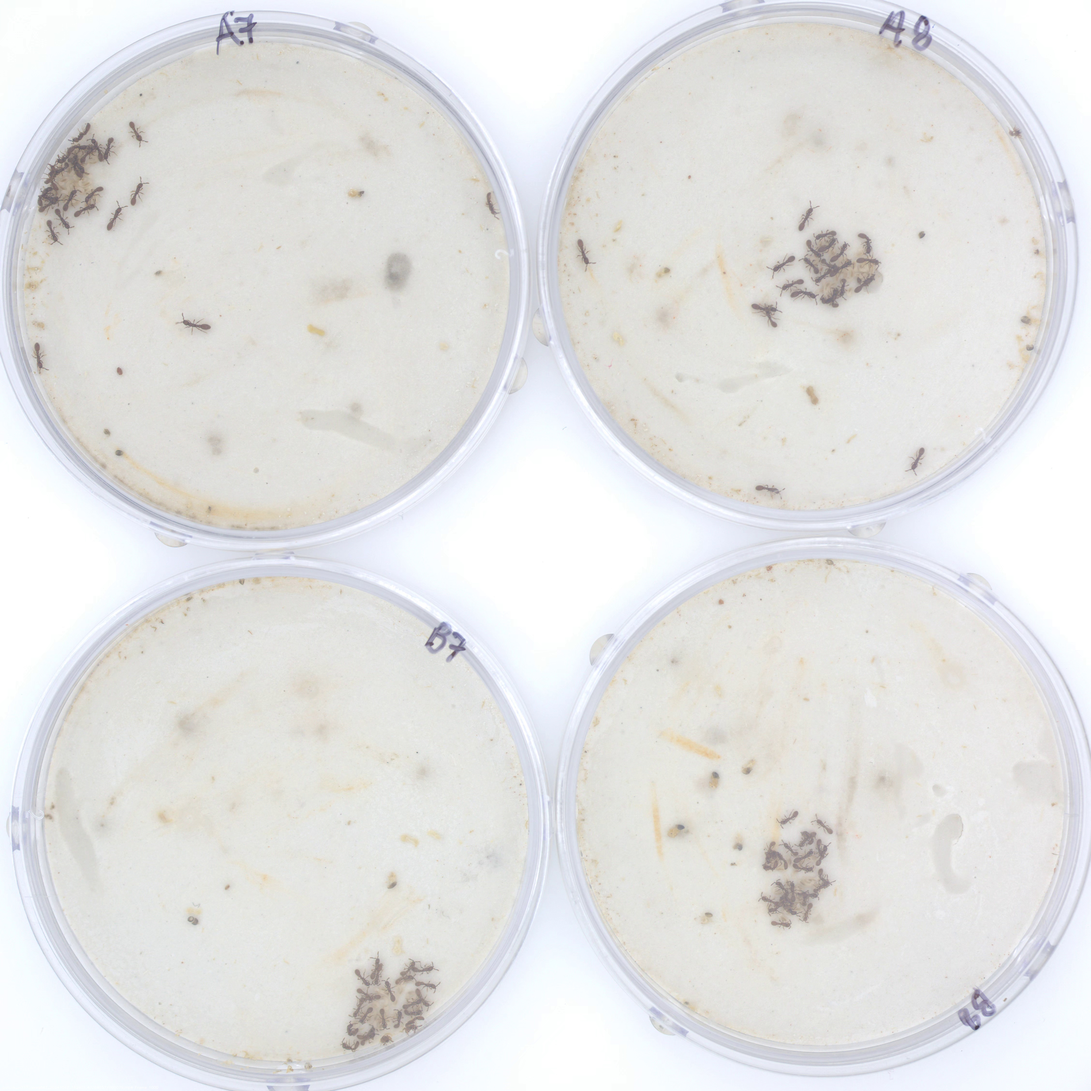brood: (805, 232, 877, 300), (349, 977, 423, 1037), (39, 143, 103, 209), (771, 874, 824, 921), (769, 839, 825, 878)
